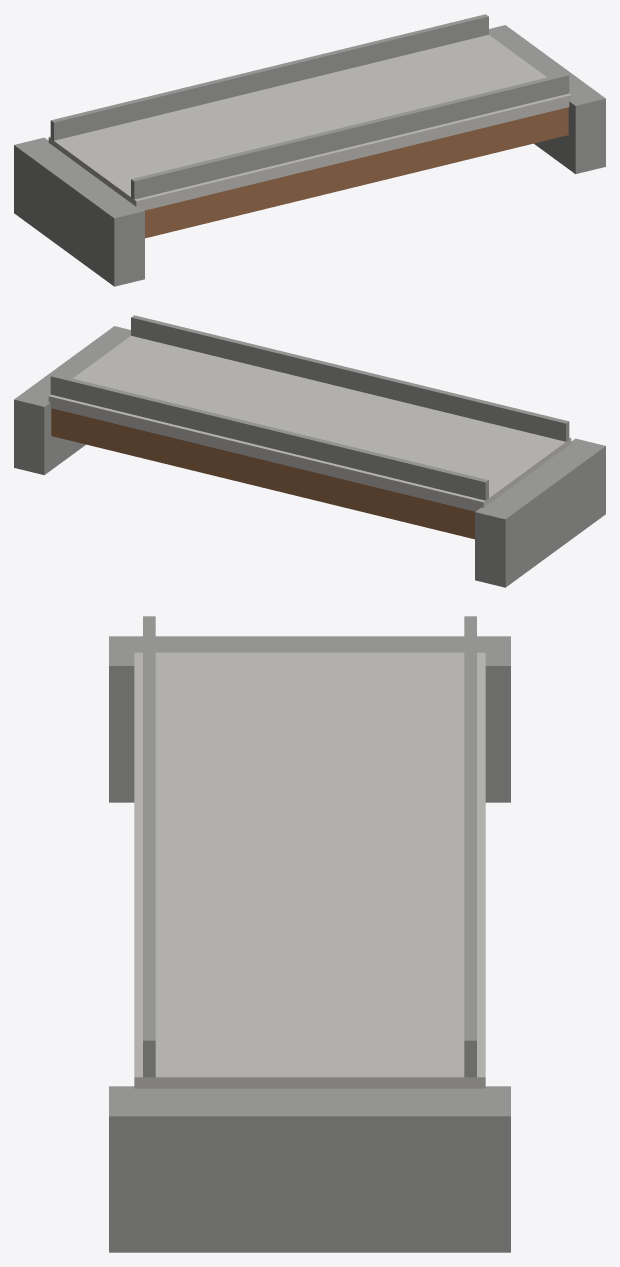
File: GirderBridge.glb
3 renders of one model, top to bottom at view 1: azimuth 30°, elevation 25°; view 2: azimuth 150°, elevation 25°; view 3: azimuth 270°, elevation 25°, orthographic. The views are drawn at different scales.
Visible parts, largest first — view 1: Deck, Girder.002, Abutment, Parapet.001, Parapet, Abutment.001; view 2: Deck, Girder.003, Abutment, Parapet, Parapet.001, Abutment.001; view 3: Deck, Abutment.001, Abutment, Parapet, Parapet.001.
Boxes of the visible parts, left/top/right/bottom form: Deck: left=48, top=34, right=571, bottom=210; Girder.002: left=145, top=107, right=568, bottom=238; Abutment: left=14, top=137, right=144, bottom=286; Parapet.001: left=50, top=14, right=488, bottom=140; Parapet: left=131, top=73, right=569, bottom=199; Abutment.001: left=489, top=25, right=605, bottom=174; Deck: left=48, top=335, right=571, bottom=511; Girder.003: left=51, top=408, right=474, bottom=539; Abutment: left=475, top=438, right=605, bottom=587; Parapet: left=131, top=315, right=569, bottom=441; Parapet.001: left=50, top=374, right=488, bottom=500; Abutment.001: left=14, top=326, right=130, bottom=475; Deck: left=134, top=652, right=485, bottom=1088; Abutment.001: left=109, top=1086, right=510, bottom=1252; Abutment: left=109, top=636, right=510, bottom=802; Parapet: left=143, top=616, right=155, bottom=1077; Parapet.001: left=464, top=616, right=476, bottom=1077.
Bounding box in the file's own units: 22.6 × 4.05 × 8.
